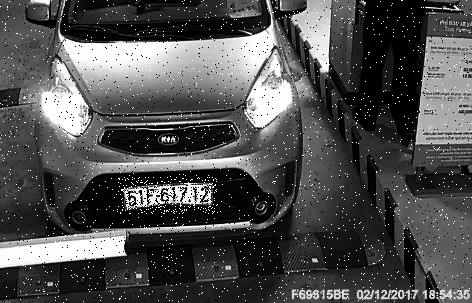License-plate: (119, 178, 220, 215)
